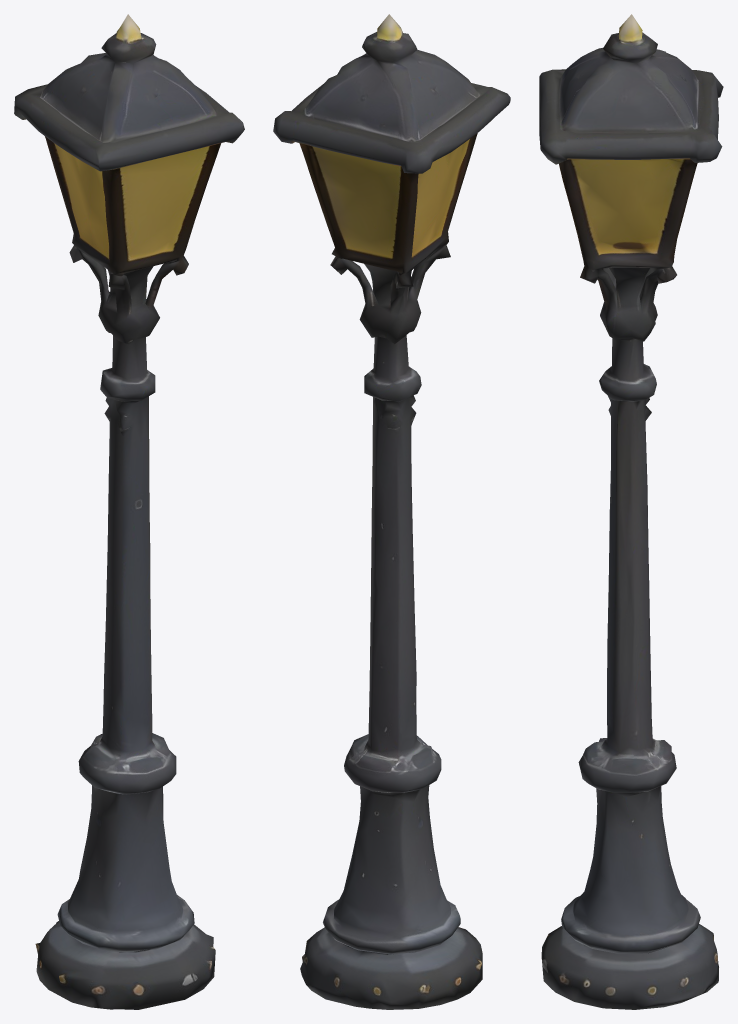
Rendered from lamba.glb.
3 views of the same model, side by side, from view 1: azimuth 30°, elevation 25°; view 2: azimuth 150°, elevation 25°; view 3: azimuth 270°, elevation 25° (orthographic).
Parts seen in each view (by area): view 1: tripo_node_90c8a84c-7d6e-430f-9836-f491c8464935; view 2: tripo_node_90c8a84c-7d6e-430f-9836-f491c8464935; view 3: tripo_node_90c8a84c-7d6e-430f-9836-f491c8464935.
Part boxes in pixels (bbox=[...]): tripo_node_90c8a84c-7d6e-430f-9836-f491c8464935: bbox=[14, 14, 244, 1009]; tripo_node_90c8a84c-7d6e-430f-9836-f491c8464935: bbox=[273, 14, 510, 1009]; tripo_node_90c8a84c-7d6e-430f-9836-f491c8464935: bbox=[539, 14, 723, 1009].
Size of the model in its own units: 0.1755 by 1 by 0.1741.
1 material, 1 textured.
